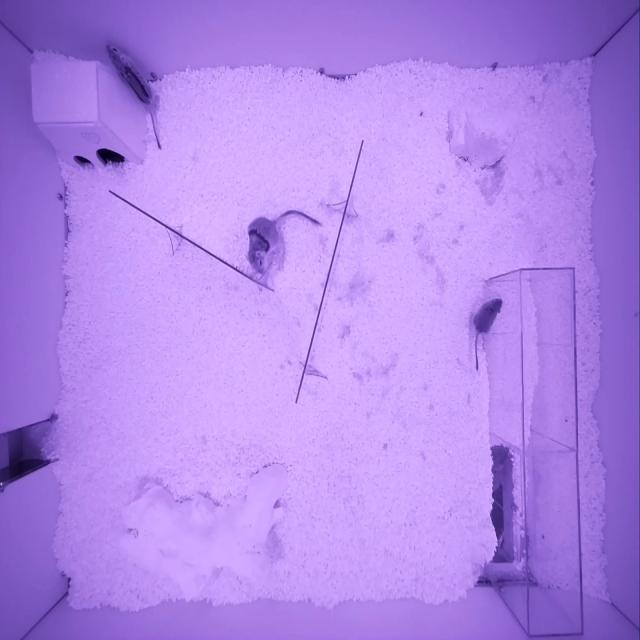adult_front: (248, 217, 284, 274)
pup_fluffy: (472, 299, 502, 333)
pup_v_stripe: (107, 45, 151, 106)
